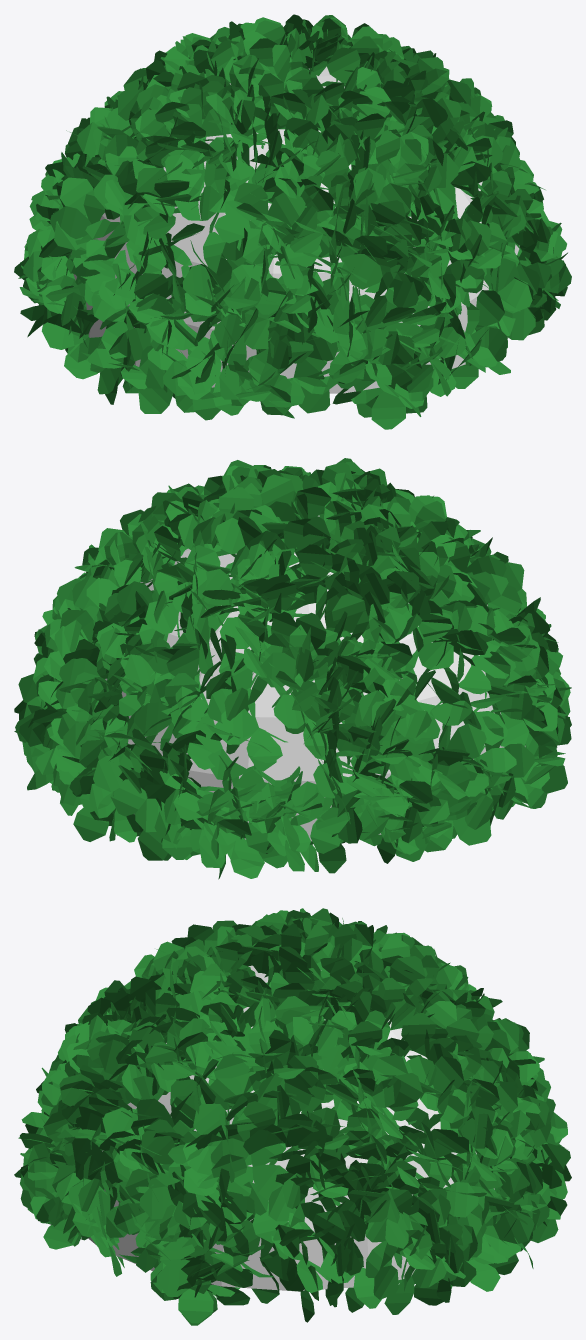
Rendered from bush.fbx.
3 views of the same model, one above another, from view 1: azimuth 30°, elevation 25°; view 2: azimuth 150°, elevation 25°; view 3: azimuth 270°, elevation 25° (orthographic).
Parts seen in each view (by area): view 1: Sphere, Sphere|leaf|Dupli|709, Sphere|leaf|Dupli|56, Sphere|leaf|Dupli|798, Sphere|leaf|Dupli|305, Sphere|leaf|Dupli|568, Sphere|leaf|Dupli|214, Sphere|leaf|Dupli|563, Sphere|leaf|Dupli|4, Sphere|leaf|Dupli|415, Sphere|leaf|Dupli|210, Sphere|leaf|Dupli|539 (+129 smaller); view 2: Sphere, Sphere|leaf|Dupli|613, Sphere|leaf|Dupli|443, Sphere|leaf|Dupli|175, Sphere|leaf|Dupli|548, Sphere|leaf|Dupli|58, Sphere|leaf|Dupli|167, Sphere|leaf|Dupli|355, Sphere|leaf|Dupli|50, Sphere|leaf|Dupli|142, Sphere|leaf|Dupli|120, Sphere|leaf|Dupli|179 (+111 smaller); view 3: Sphere, Sphere|leaf|Dupli|290, Sphere|leaf|Dupli|788, Sphere|leaf|Dupli|344, Sphere|leaf|Dupli|41, Sphere|leaf|Dupli|738, Sphere|leaf|Dupli|625, Sphere|leaf|Dupli|102, Sphere|leaf|Dupli|67, Sphere|leaf|Dupli|121, Sphere|leaf|Dupli|116, Sphere|leaf|Dupli|768 (+120 smaller).
Part boxes in pixels (x1,y1,x2,y2): Sphere: (71,66,519,393); Sphere|leaf|Dupli|709: (234,182,305,228); Sphere|leaf|Dupli|56: (320,216,382,289); Sphere|leaf|Dupli|798: (351,377,433,429); Sphere|leaf|Dupli|305: (50,190,105,262); Sphere|leaf|Dupli|568: (260,357,330,415); Sphere|leaf|Dupli|214: (475,290,507,361); Sphere|leaf|Dupli|563: (182,232,225,300); Sphere|leaf|Dupli|4: (165,153,204,220); Sphere|leaf|Dupli|415: (229,228,277,295); Sphere|leaf|Dupli|210: (138,345,194,413); Sphere|leaf|Dupli|539: (163,319,221,377); Sphere: (105,515,525,841); Sphere|leaf|Dupli|613: (134,673,198,750); Sphere|leaf|Dupli|443: (401,613,453,676); Sphere|leaf|Dupli|175: (438,723,486,795); Sphere|leaf|Dupli|548: (208,748,300,810); Sphere|leaf|Dupli|58: (484,651,532,724); Sphere|leaf|Dupli|167: (93,718,128,792); Sphere|leaf|Dupli|355: (273,673,328,758); Sphere|leaf|Dupli|50: (175,673,222,752); Sphere|leaf|Dupli|142: (291,781,340,853); Sphere|leaf|Dupli|120: (207,652,257,723); Sphere|leaf|Dupli|179: (221,688,276,771); Sphere: (88,965,494,1291); Sphere|leaf|Dupli|290: (217,1143,288,1199); Sphere|leaf|Dupli|788: (488,1205,534,1274); Sphere|leaf|Dupli|344: (420,1156,478,1227); Sphere|leaf|Dupli|41: (170,1078,241,1136); Sphere|leaf|Dupli|738: (150,1262,240,1323); Sphere|leaf|Dupli|625: (371,1073,430,1130); Sphere|leaf|Dupli|102: (384,1258,446,1314); Sphere|leaf|Dupli|67: (181,1256,252,1305); Sphere|leaf|Dupli|121: (407,1055,464,1128); Sphere|leaf|Dupli|116: (345,1242,398,1312); Sphere|leaf|Dupli|768: (136,1095,201,1131).
Bounding box in the file's own units: 233 × 137 × 233.
